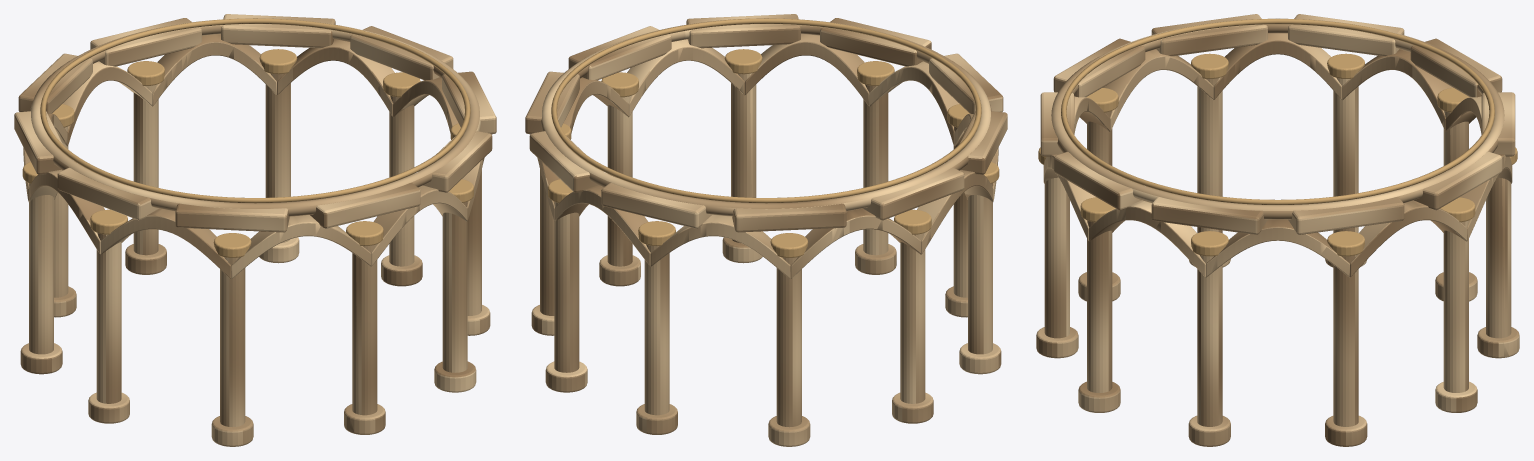
Rendered from forum-fountain.glb.
The picture shows the model from 3 angles, left to right: view 1: azimuth 30°, elevation 25°; view 2: azimuth 150°, elevation 25°; view 3: azimuth 270°, elevation 25°; orthographic projection.
Parts seen in each view (by area): view 1: ForumFountainArchitecture_PaleTravertine, ForumFountainArchitecture_ForumWarmStone, ForumFountainArchitecture_ForumChampagne; view 2: ForumFountainArchitecture_PaleTravertine, ForumFountainArchitecture_ForumWarmStone, ForumFountainArchitecture_ForumChampagne; view 3: ForumFountainArchitecture_PaleTravertine, ForumFountainArchitecture_ForumWarmStone, ForumFountainArchitecture_ForumChampagne.
Boxes of the visible parts, <box> form: ForumFountainArchitecture_PaleTravertine: <box>23,18,484,427</box>; ForumFountainArchitecture_ForumWarmStone: <box>14,14,496,446</box>; ForumFountainArchitecture_ForumChampagne: <box>22,18,473,257</box>; ForumFountainArchitecture_PaleTravertine: <box>537,18,998,427</box>; ForumFountainArchitecture_ForumWarmStone: <box>525,14,1007,446</box>; ForumFountainArchitecture_ForumChampagne: <box>548,18,999,257</box>; ForumFountainArchitecture_PaleTravertine: <box>1043,18,1512,426</box>; ForumFountainArchitecture_ForumWarmStone: <box>1036,14,1519,446</box>; ForumFountainArchitecture_ForumChampagne: <box>1038,18,1517,256</box>.
Size of the model in its own units: 9.19 by 5.03 by 9.16.
3 materials, 2 textured.
